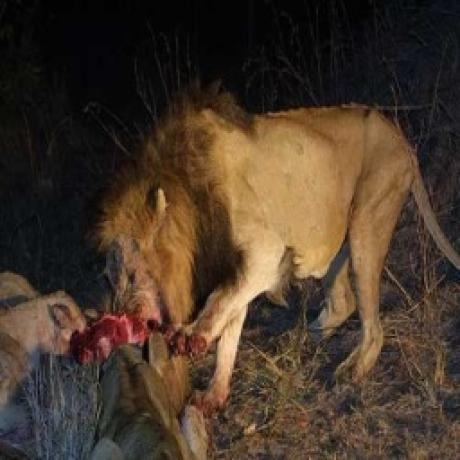Lion: (99, 80, 456, 386)
